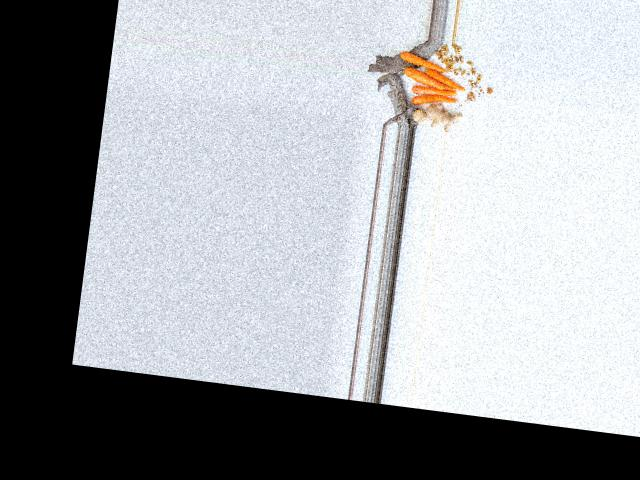carrot: (407, 89, 456, 115)
